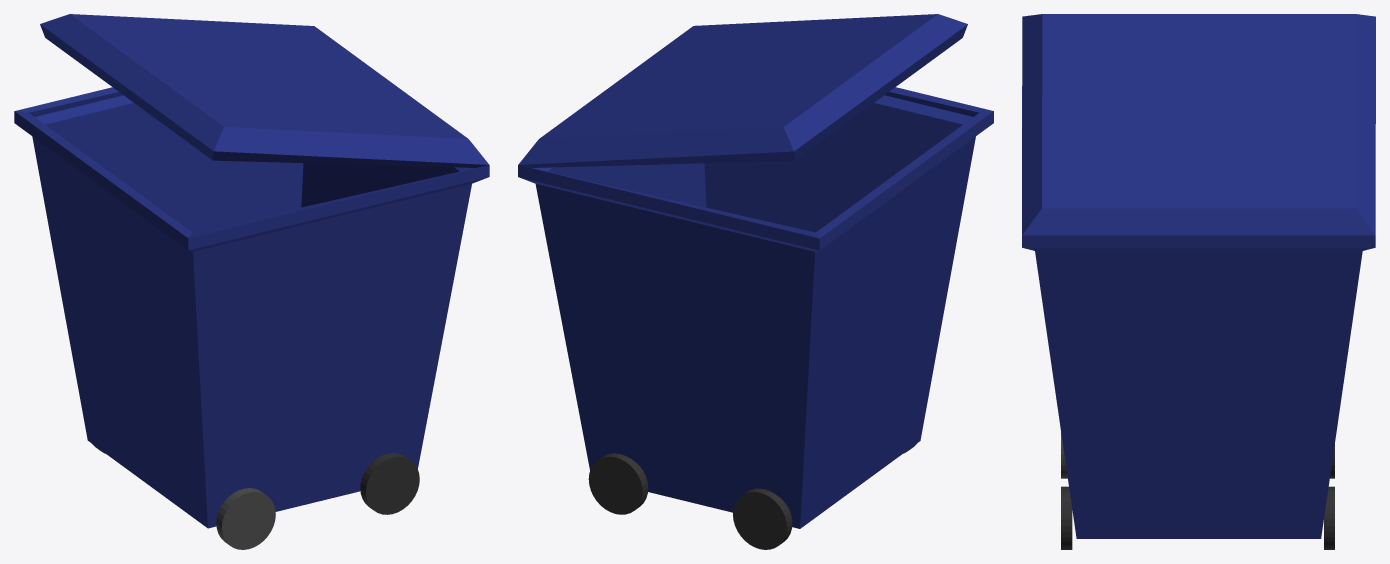
The model's file is dustbin1.fbx.
The picture shows the model from 3 angles, left to right: view 1: azimuth 30°, elevation 25°; view 2: azimuth 150°, elevation 25°; view 3: azimuth 270°, elevation 25°; orthographic projection.
Parts seen in each view (by area): view 1: Cube, Circle.002, Circle.003; view 2: Cube, Circle.001, Circle; view 3: Cube, Circle.002, Circle.
Part boxes in pixels (x1,y1,x2,y2): Cube: (14, 14, 489, 528); Circle.002: (360, 453, 419, 514); Circle.003: (216, 488, 275, 549); Cube: (518, 14, 993, 528); Circle.001: (733, 488, 792, 549); Circle: (588, 453, 648, 514); Cube: (1022, 14, 1375, 538); Circle.002: (1061, 486, 1072, 549); Circle: (1324, 486, 1334, 549).
Size of the model in its own units: 210 by 291 by 210.
